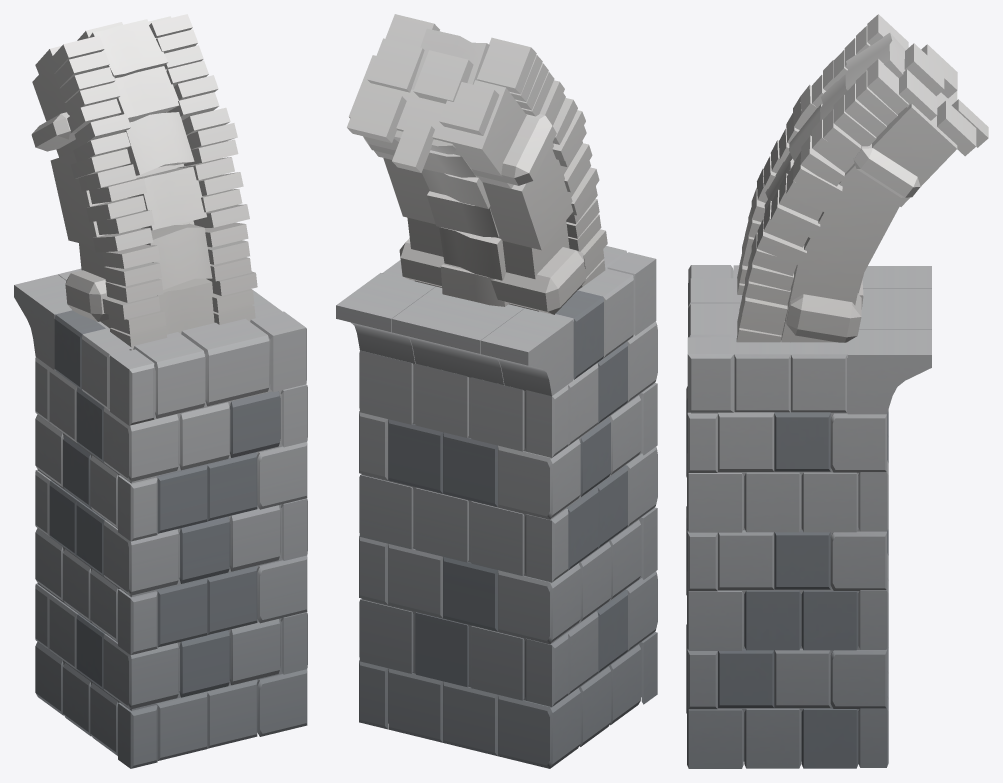
Rendered from soportalRoto.fbx.
3 views of the same model, side by side, from view 1: azimuth 30°, elevation 25°; view 2: azimuth 150°, elevation 25°; view 3: azimuth 270°, elevation 25° (orthographic). The views are drawn at different scales.
Visible parts, largest first — view 1: soportalroto; view 2: soportalroto; view 3: soportalroto.
Boxes of the visible parts, x1,y1,x2,y2 form: soportalroto: (14, 14, 307, 768); soportalroto: (336, 14, 657, 768); soportalroto: (686, 14, 988, 768).
Bounding box in the file's own units: 497 × 1729 × 700.
